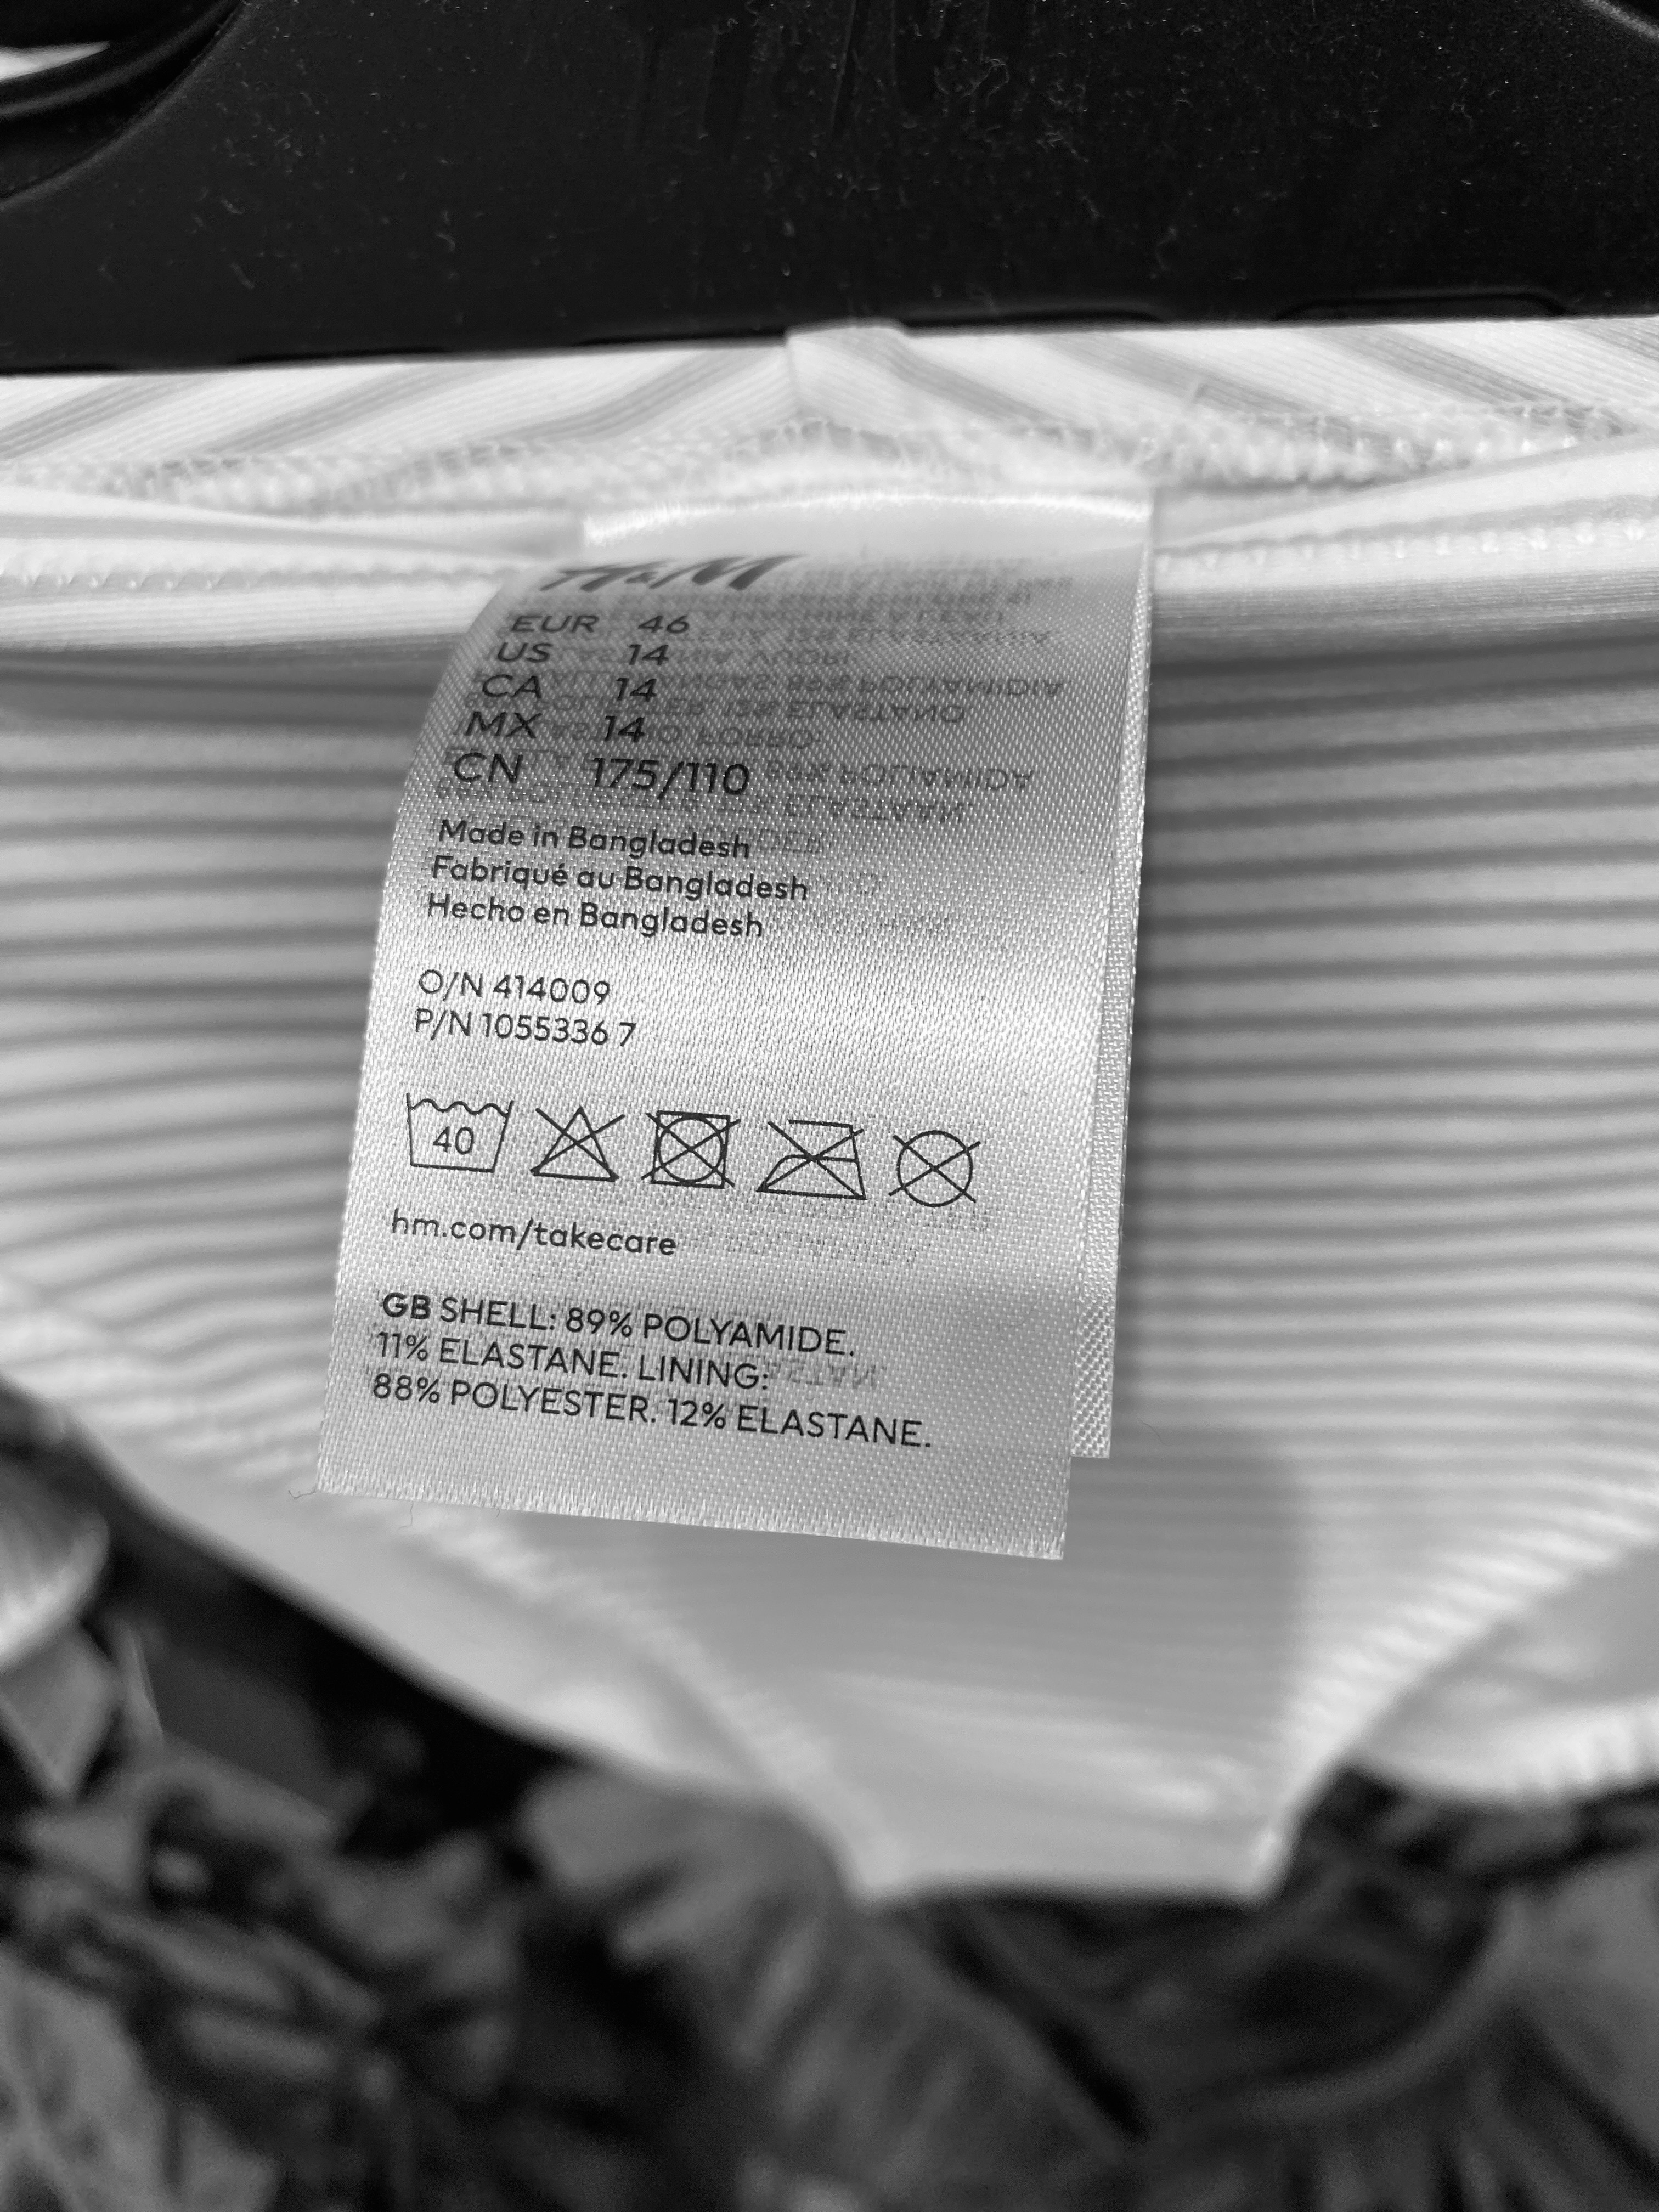tag: (305, 493, 1162, 1566)
